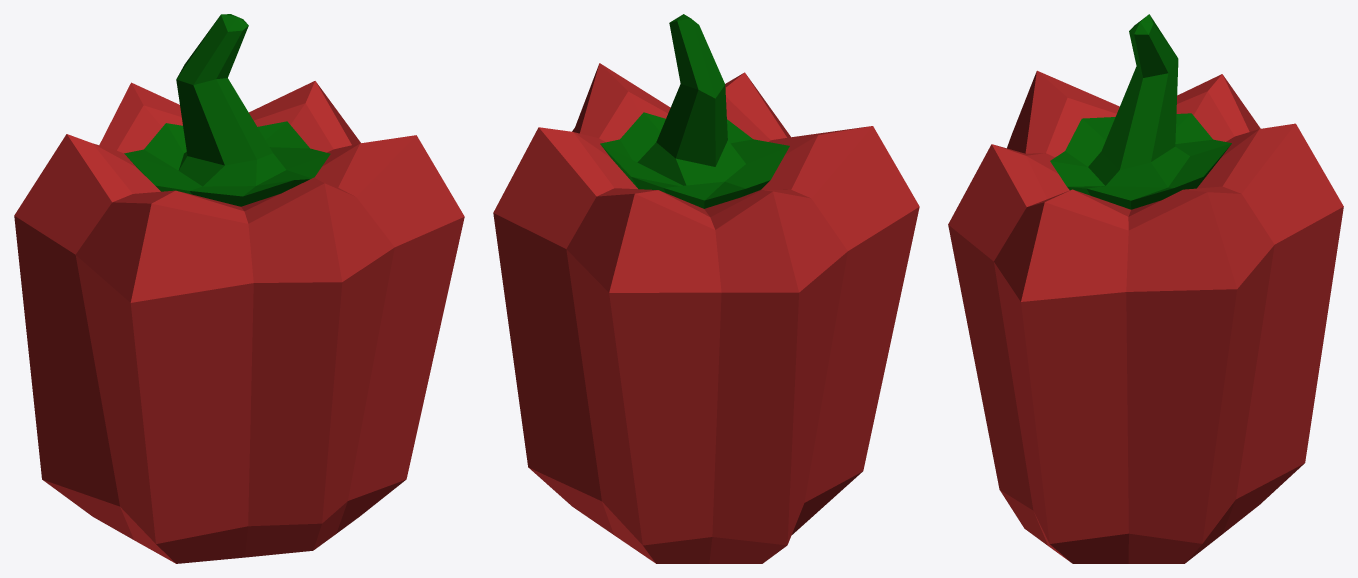
Rendered from Red Pepper.fbx.
The picture shows the model from 3 angles, left to right: view 1: azimuth 30°, elevation 25°; view 2: azimuth 150°, elevation 25°; view 3: azimuth 270°, elevation 25°; orthographic projection.
Visible parts, largest first — view 1: Red Pepper; view 2: Red Pepper; view 3: Red Pepper.
Part boxes in pixels (x1,y1,x2,y2): Red Pepper: (14, 14, 464, 563); Red Pepper: (493, 14, 919, 563); Red Pepper: (948, 14, 1343, 563).
Bounding box in the file's own units: 22.09 × 31.16 × 22.25.
